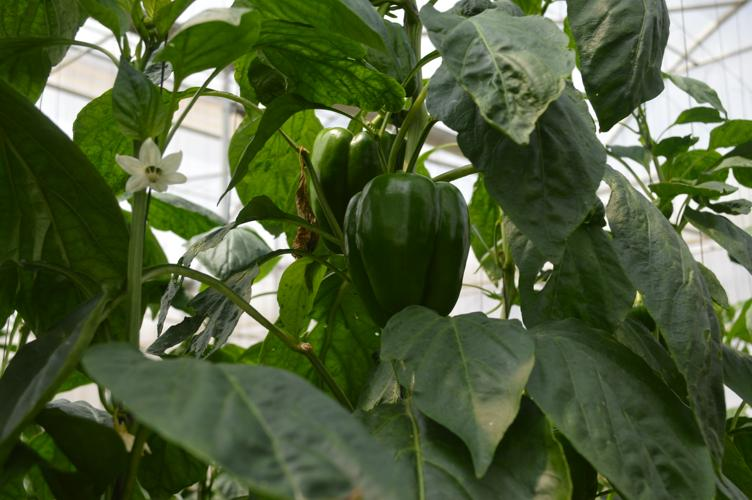BellPepper: (351, 173, 473, 320), (302, 124, 405, 245)
